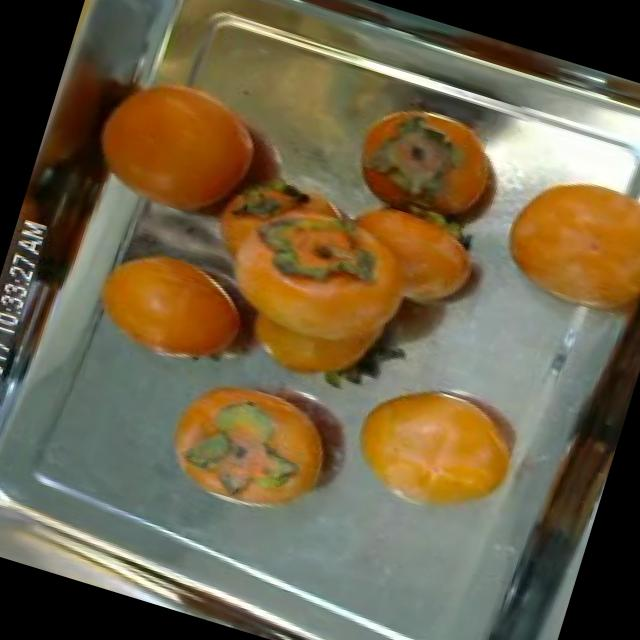Fruit: (58, 41, 296, 250), (322, 348, 553, 548), (143, 357, 364, 541), (473, 142, 640, 346), (323, 87, 528, 252), (76, 227, 266, 391)
